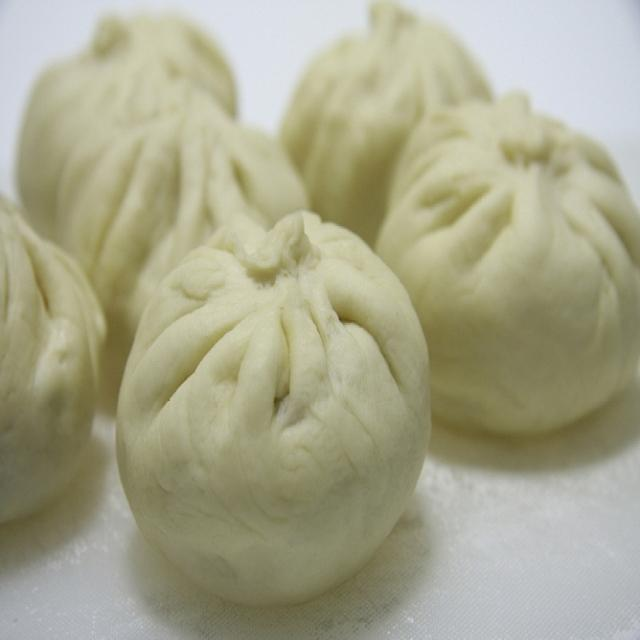带馅早点: (0, 17, 619, 610)
